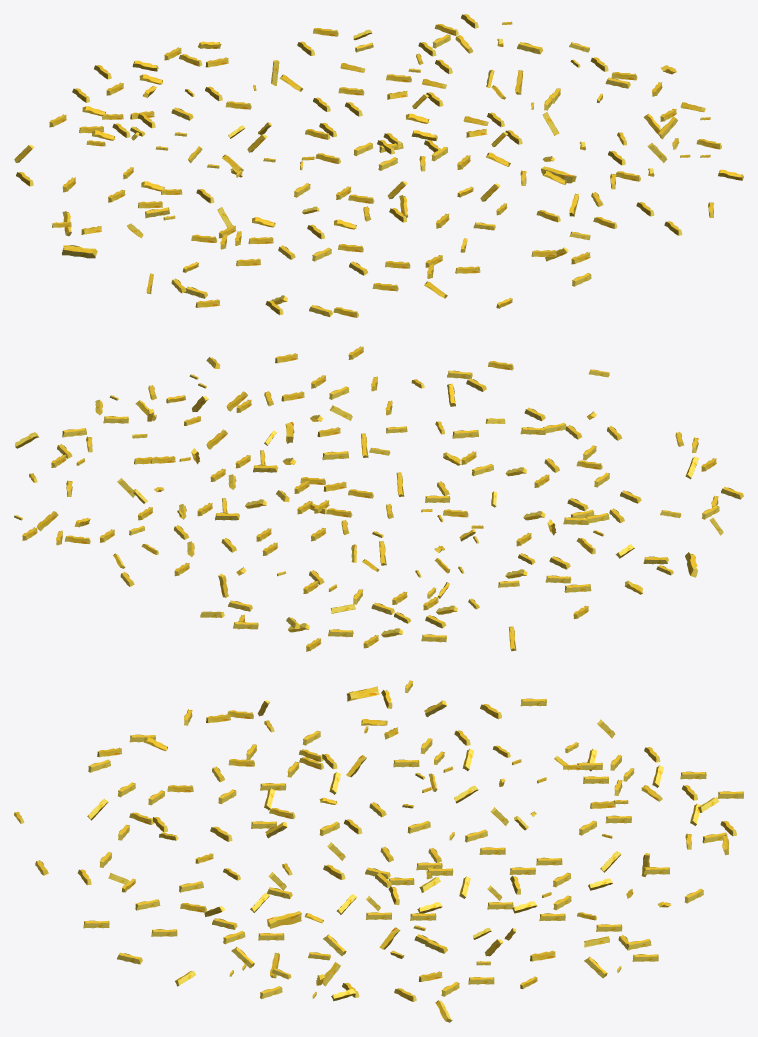
Rendered from cheese_op_pizza.glb.
The picture shows the model from 3 angles, top to bottom: view 1: azimuth 30°, elevation 25°; view 2: azimuth 150°, elevation 25°; view 3: azimuth 270°, elevation 25°; orthographic projection. The views are drawn at different scales.
Bounding box in the file's own units: 2.56 × 0.1154 × 2.41.
Materials: 107 (107 with a texture image).
